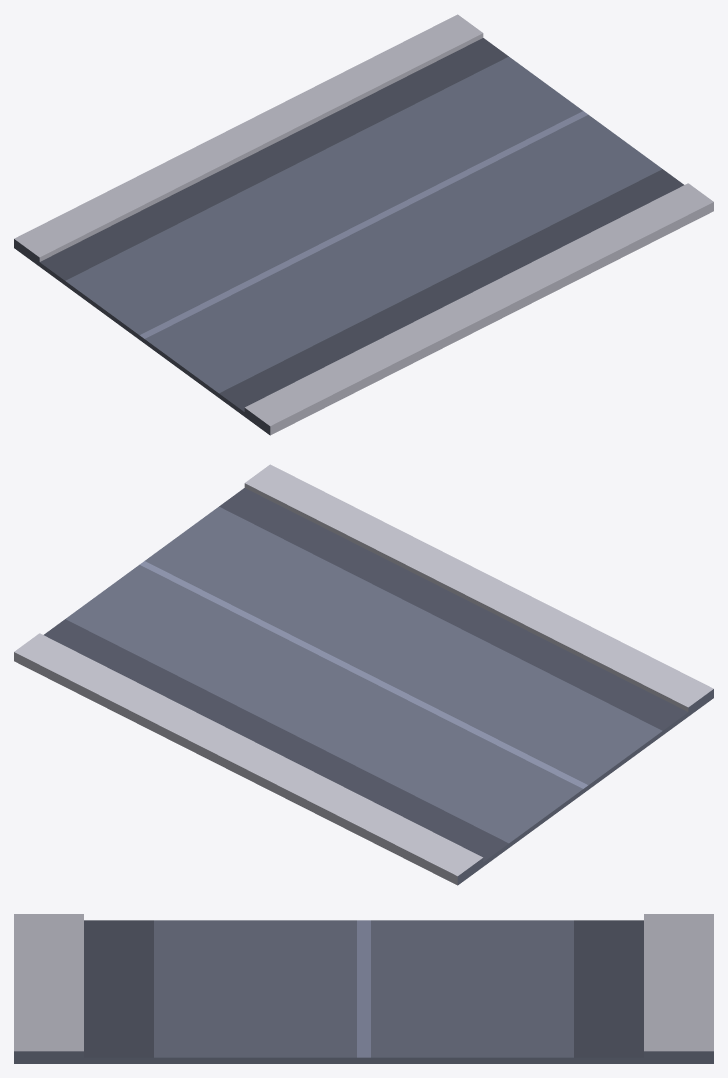
File: road_slantFlat.fbx
The picture shows the model from 3 angles, top to bottom: view 1: azimuth 30°, elevation 25°; view 2: azimuth 150°, elevation 25°; view 3: azimuth 270°, elevation 25°; orthographic projection. The views are drawn at different scales.
Visible parts, largest first — view 1: road_slantFlat; view 2: road_slantFlat; view 3: road_slantFlat.
Boxes of the visible parts, x1=… form: road_slantFlat: x1=14, y1=14, x2=713, y2=435; road_slantFlat: x1=14, y1=464, x2=713, y2=885; road_slantFlat: x1=14, y1=914, x2=713, y2=1063.
Bounding box in the file's own units: 10 × 2.7 × 10.
